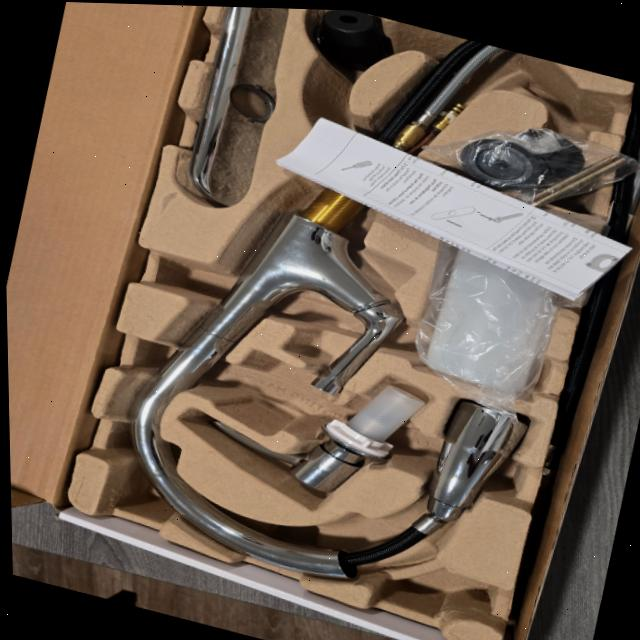1o: (127, 39, 535, 581)
2: (203, 383, 422, 497)
3o: (426, 209, 564, 393)
4: (188, 7, 285, 206)
5: (311, 10, 391, 68)
6m: (506, 68, 603, 126)
7: (420, 123, 640, 208)
8: (275, 117, 633, 300)
